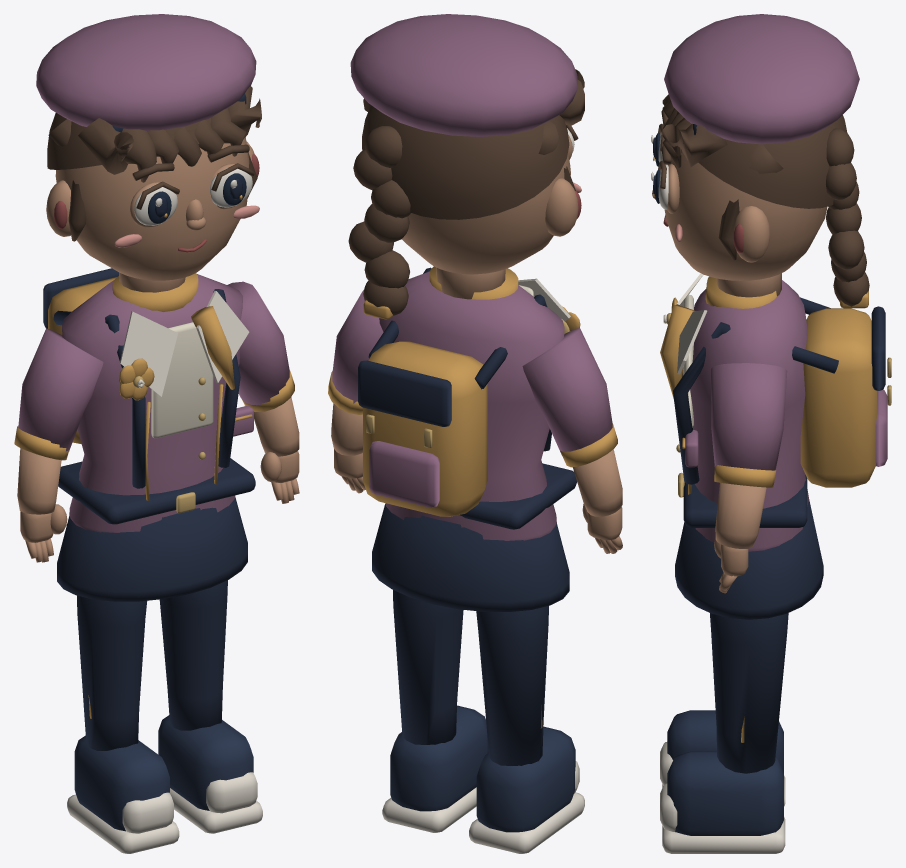
The model's file is npc_valley_trainer_flower_hill.glb.
3 renders of one model, left to right at view 1: azimuth 30°, elevation 25°; view 2: azimuth 150°, elevation 25°; view 3: azimuth 270°, elevation 25°, orthographic. The views are drawn at different scales.
Visible parts, largest first — view 1: figure.015; view 2: figure.015; view 3: figure.015.
Part boxes in pixels (left/top/right/bottom): figure.015: left=14, top=14, right=299, bottom=853; figure.015: left=328, top=14, right=622, bottom=853; figure.015: left=651, top=14, right=891, bottom=853.
Bounding box in the file's own units: 0.59 × 1.58 × 0.4383.
